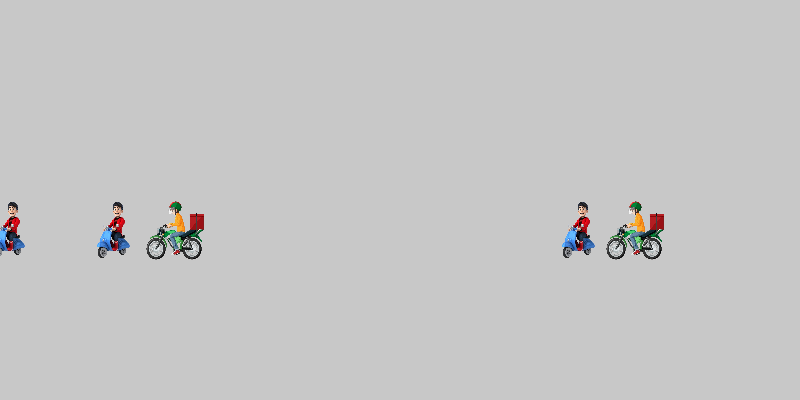helmet: (145, 200, 205, 260), (605, 200, 665, 260)
no_helmet: (85, 200, 145, 260), (550, 200, 610, 260), (0, 200, 40, 260)
